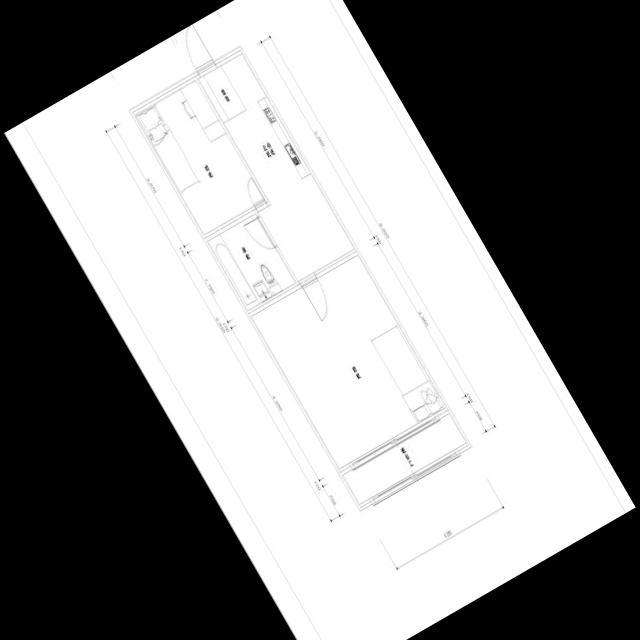background: (4, 0, 636, 640)
space_balconi: (343, 414, 466, 504)
space_bedroom: (252, 255, 445, 468), (135, 80, 265, 235)
space_front: (198, 66, 246, 123)
space_kitchen: (220, 54, 354, 282)
space_toilet: (208, 214, 295, 310)
